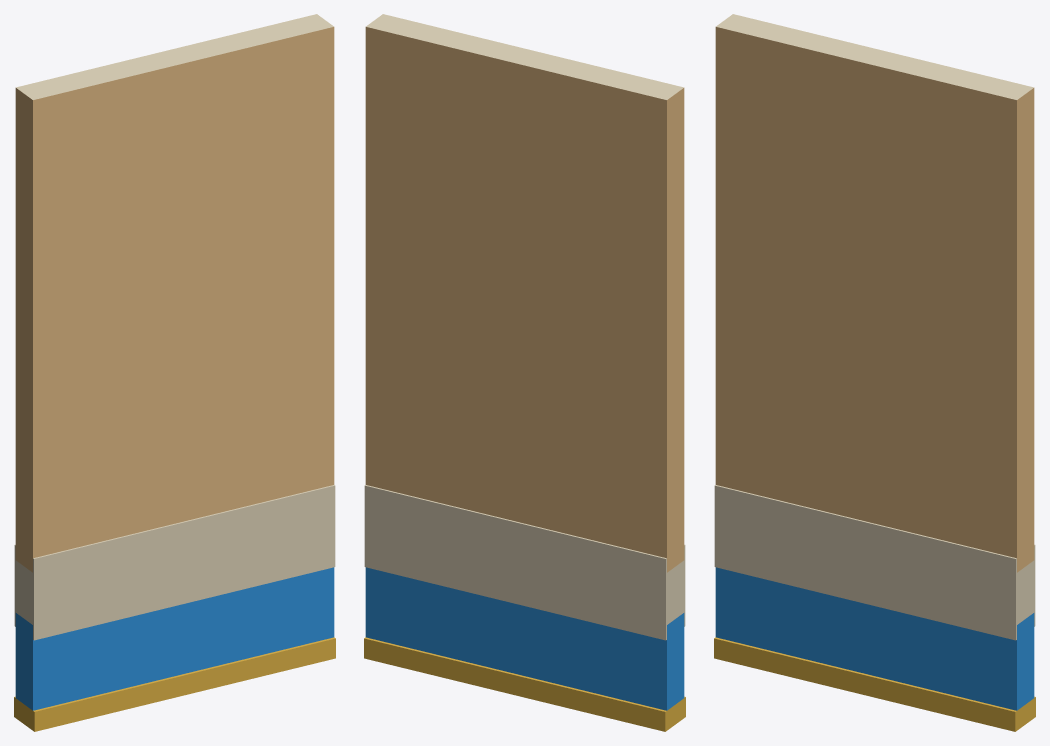
File: wall.fbx
3 renders of one model, left to right at view 1: azimuth 30°, elevation 25°; view 2: azimuth 150°, elevation 25°; view 3: azimuth 330°, elevation 25°, orthographic.
Parts seen in each view (by area): view 1: Cube.007, Cube.009, Cube.008; view 2: Cube.007, Cube.009, Cube.008; view 3: Cube.007, Cube.009, Cube.008.
Part boxes in pixels (x1,y1,x2,y2): Cube.007: (15, 14, 334, 730); Cube.009: (14, 485, 335, 640); Cube.008: (14, 637, 335, 731); Cube.007: (365, 14, 684, 730); Cube.009: (364, 485, 685, 640); Cube.008: (364, 637, 685, 731); Cube.007: (715, 14, 1034, 730); Cube.009: (714, 485, 1035, 640); Cube.008: (714, 637, 1035, 731).
Bounding box in the file's own units: 2 × 0.235 × 4.
